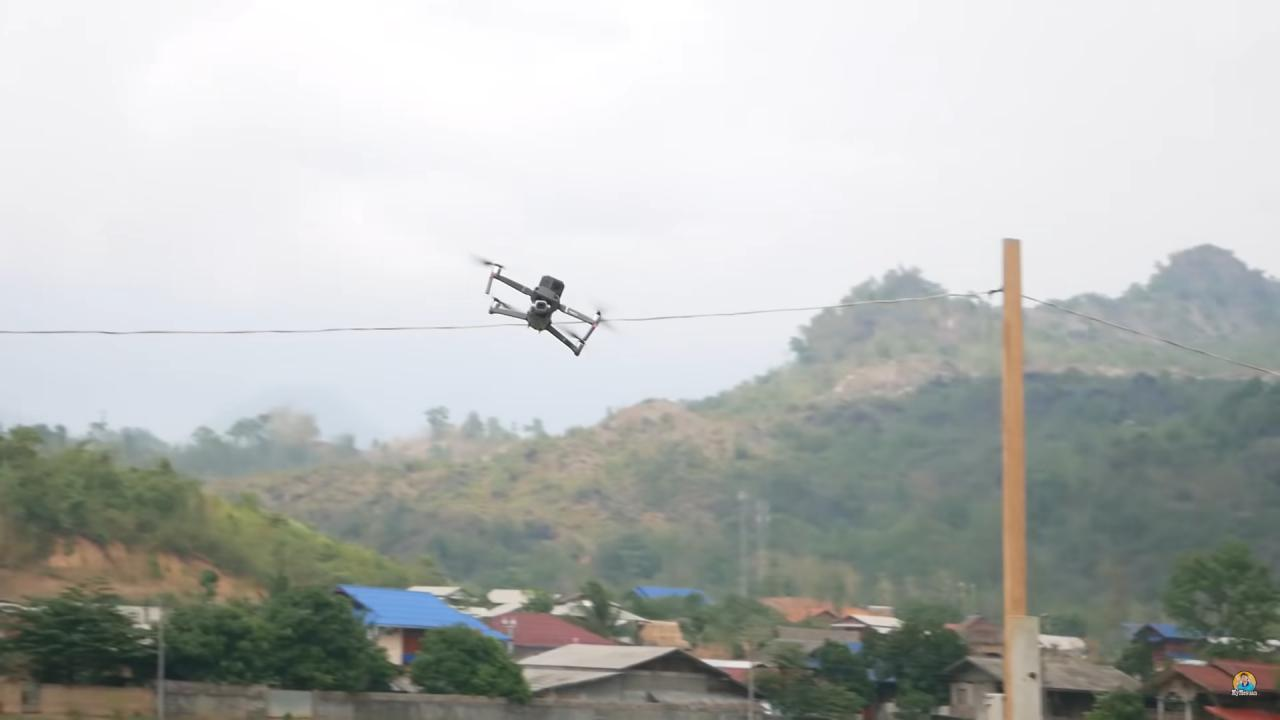Drone: (463, 250, 620, 368)
